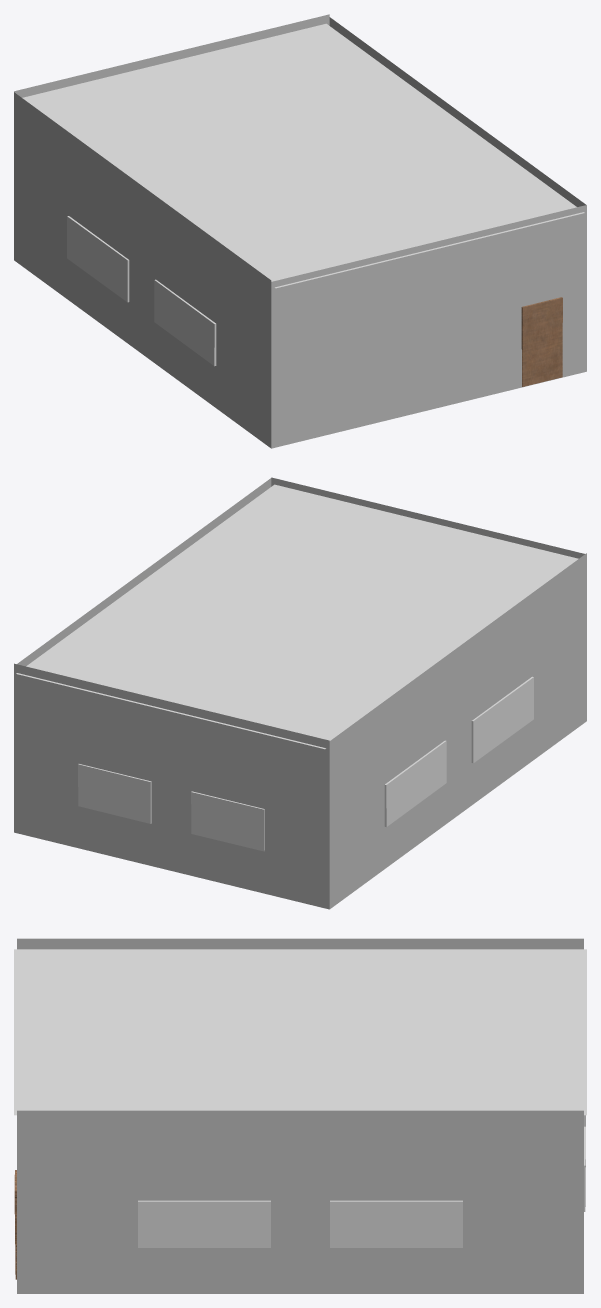
File: room2.fbx
3 renders of one model, top to bottom at view 1: azimuth 30°, elevation 25°; view 2: azimuth 150°, elevation 25°; view 3: azimuth 270°, elevation 25°, orthographic. The views are drawn at different scales.
Visible parts, largest first — view 1: Plane, Plane.006, Plane.005, Plane.008; view 2: Plane, Plane.006, Plane.003, Plane.005; view 3: Plane, Plane.006, Plane.005.
Part boxes in pixels (x1,y1,x2,y2): Plane: [14, 14, 586, 448]; Plane.006: [22, 23, 584, 288]; Plane.005: [67, 216, 216, 366]; Plane.008: [521, 297, 562, 386]; Plane: [14, 477, 586, 909]; Plane.006: [16, 484, 578, 749]; Plane.003: [78, 764, 264, 851]; Plane.005: [384, 676, 533, 826]; Plane: [17, 938, 583, 1293]; Plane.006: [14, 949, 586, 1115]; Plane.005: [138, 1200, 462, 1247].
Bounding box in the file's own units: 3096 × 1563 × 4360.
